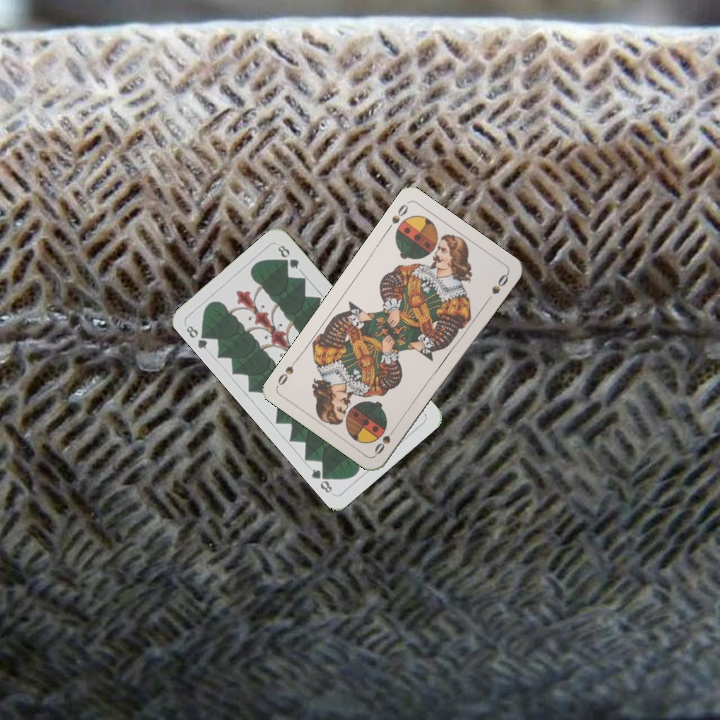G8: (182, 321, 213, 352)
SO: (370, 422, 399, 457), (382, 200, 411, 234)
